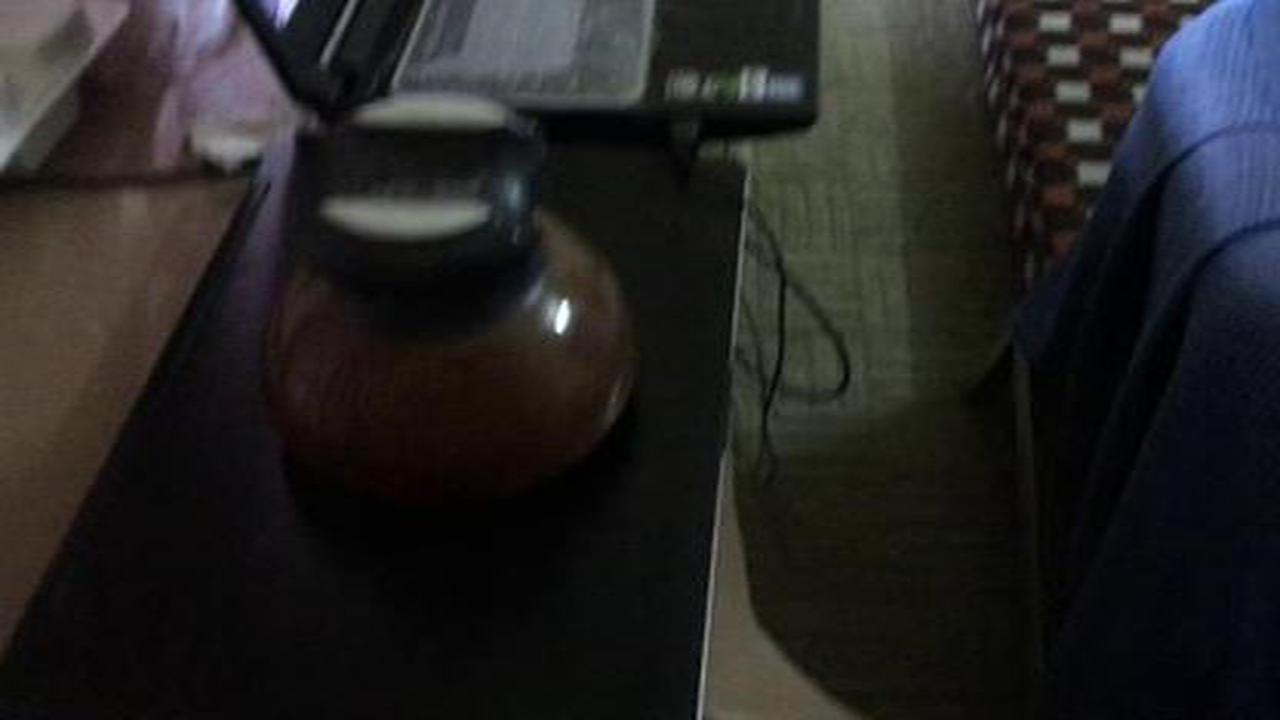insulator_pin: (241, 87, 662, 511)
